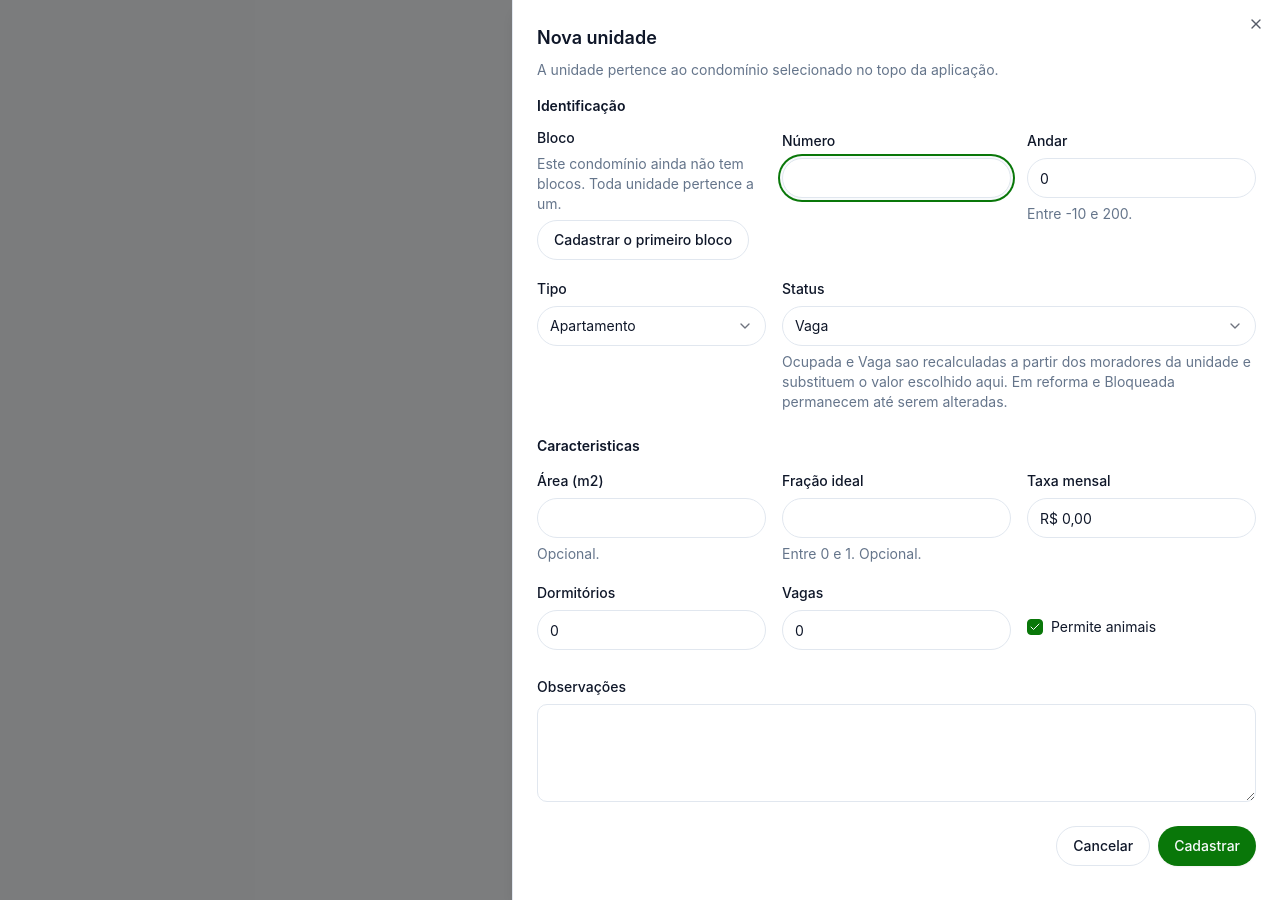
Test: Criação de bloco dentro do cadastro de unidade › IT-195: nome de bloco duplicado preserva os dados da unidade já digitados
Type "101" into the field labelled "Número" at (896, 178), box [782,158,1011,198]
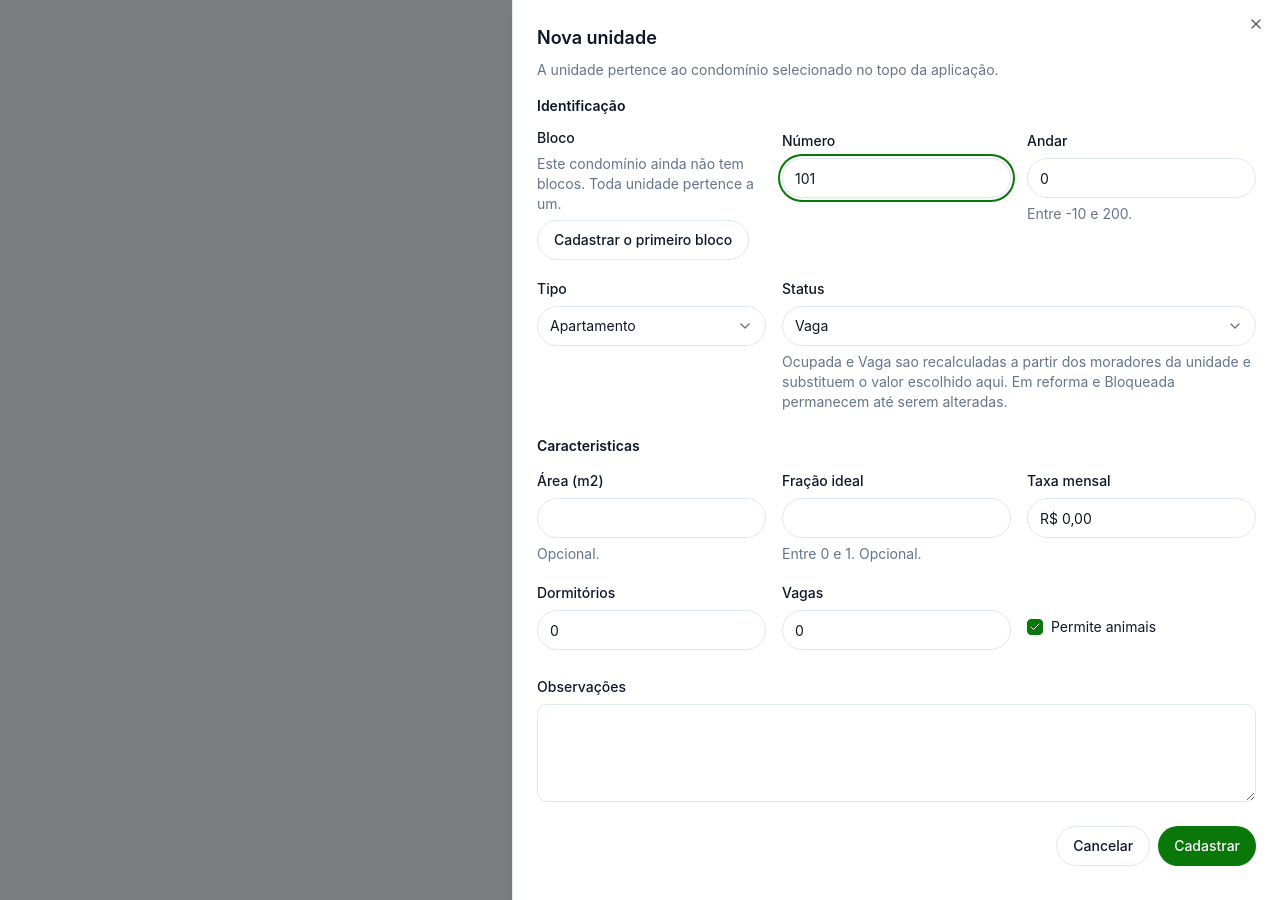
Click the button "Cadastrar o primeiro bloco" at (643, 240), box [537,220,749,260]
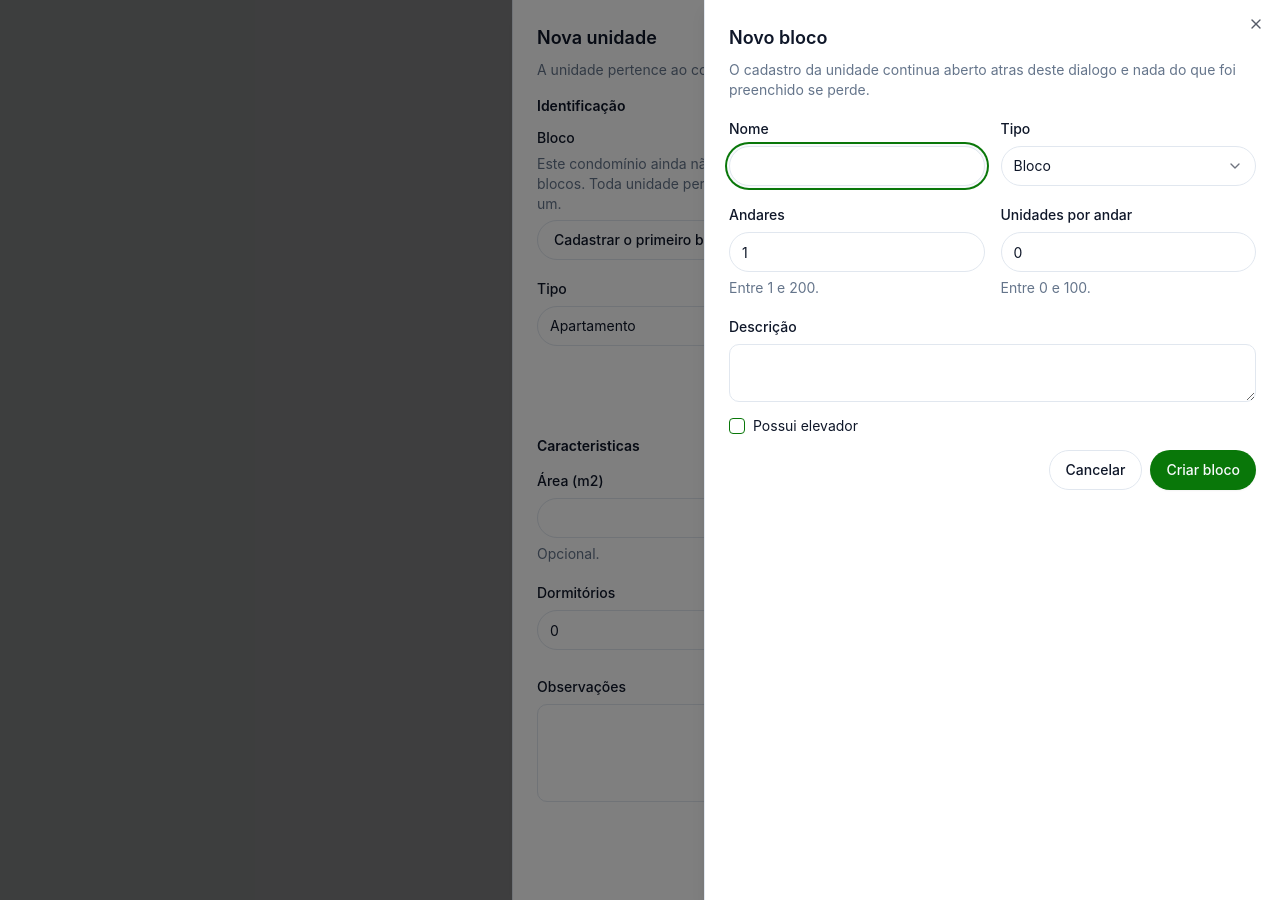
Now the field labelled "Nome" is shown
Type "Torre A" into the field labelled "Nome" at (857, 166), box [729,146,984,186]
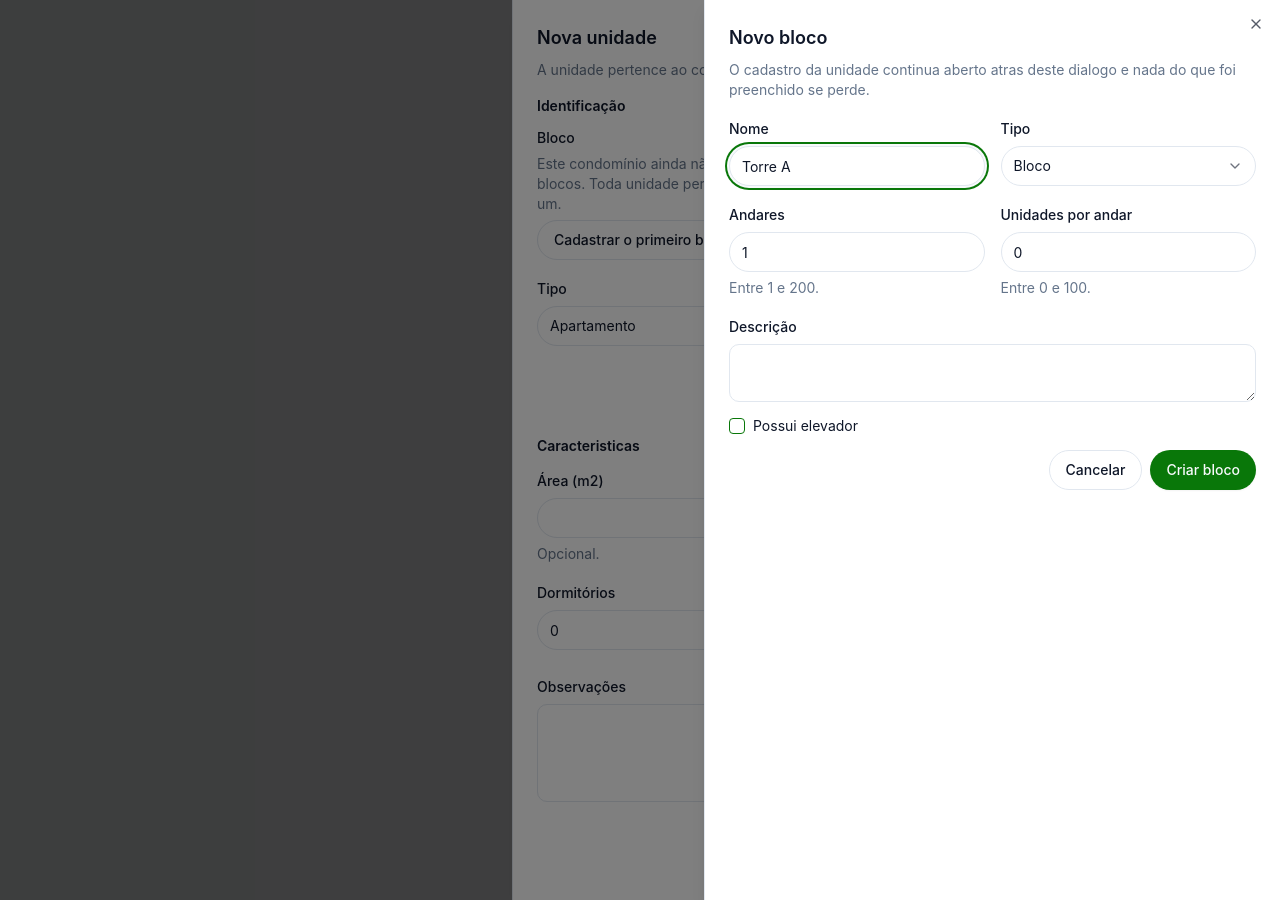
Click the button "Criar bloco" at (1203, 470), box [1150,450,1256,490]
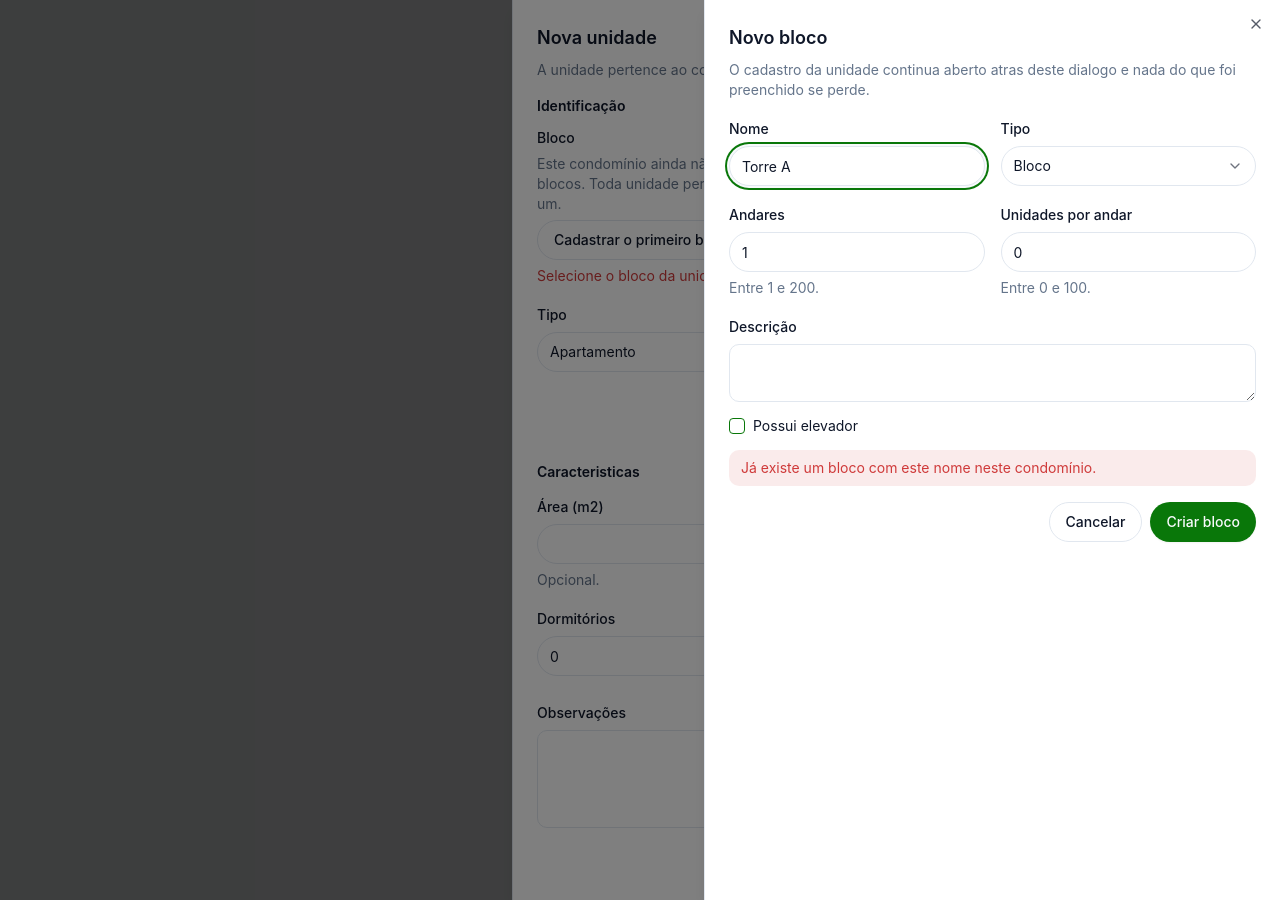
Now the text "Já existe um bloco com este nome neste condomínio." is shown, box [729,450,1256,486]
Click the button "Cancelar" at (1096, 522), box [1049,502,1142,542]
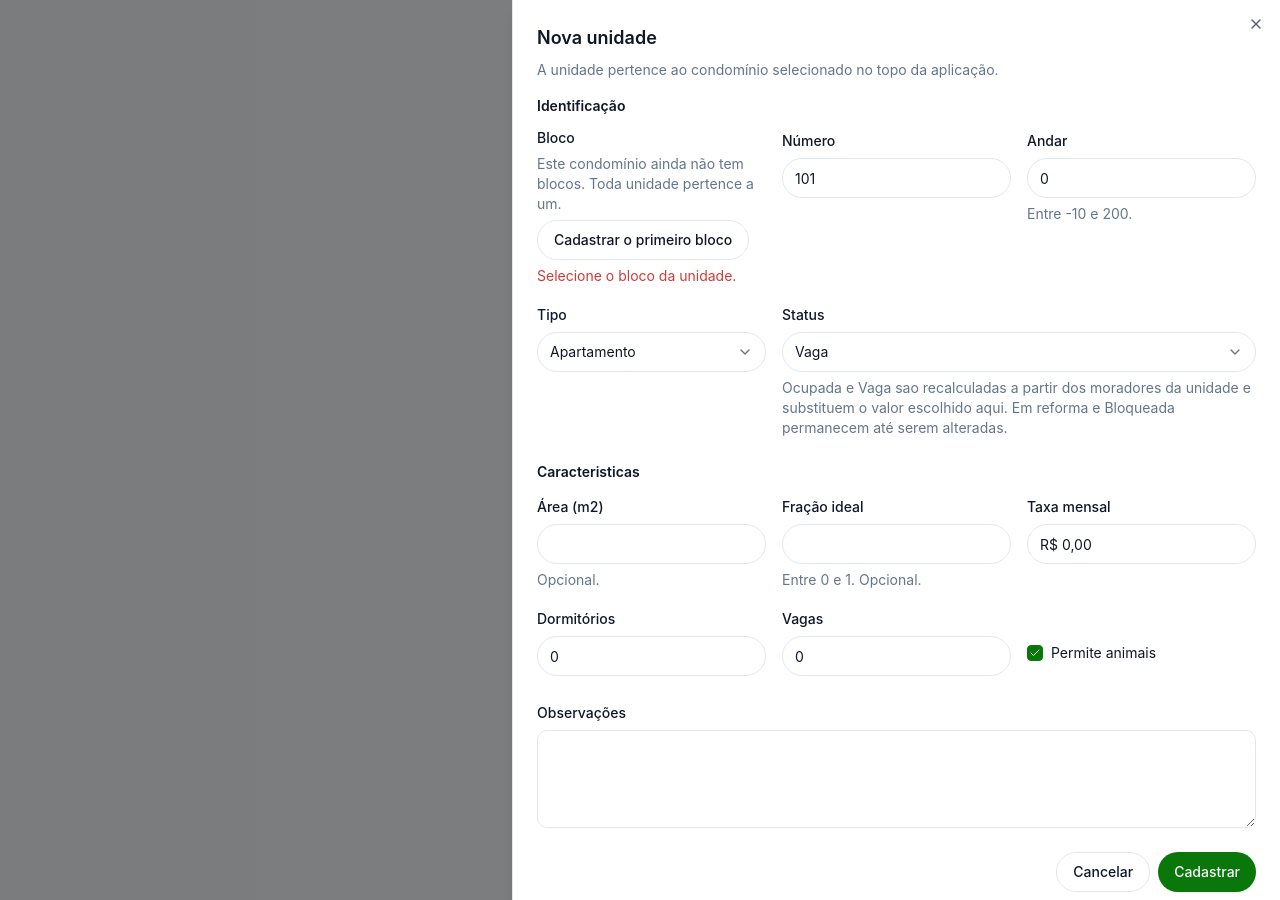
Now the label labelled "Nome" is gone
